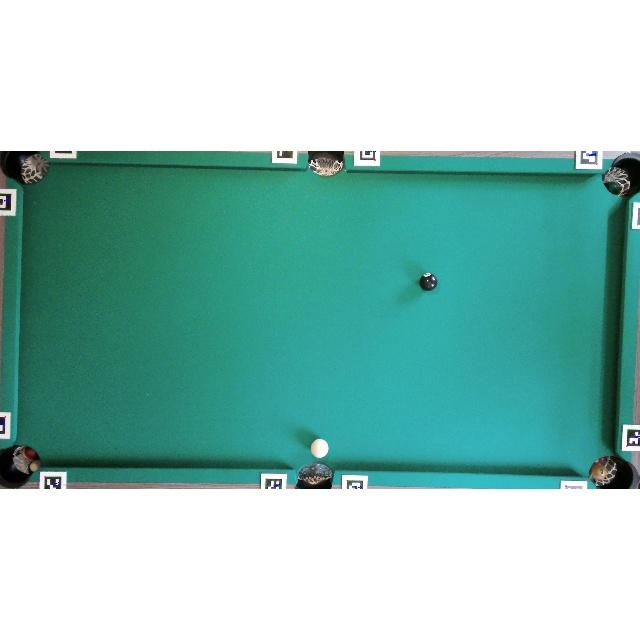cue ball: (309, 437, 329, 459)
other: (420, 272, 438, 291)
